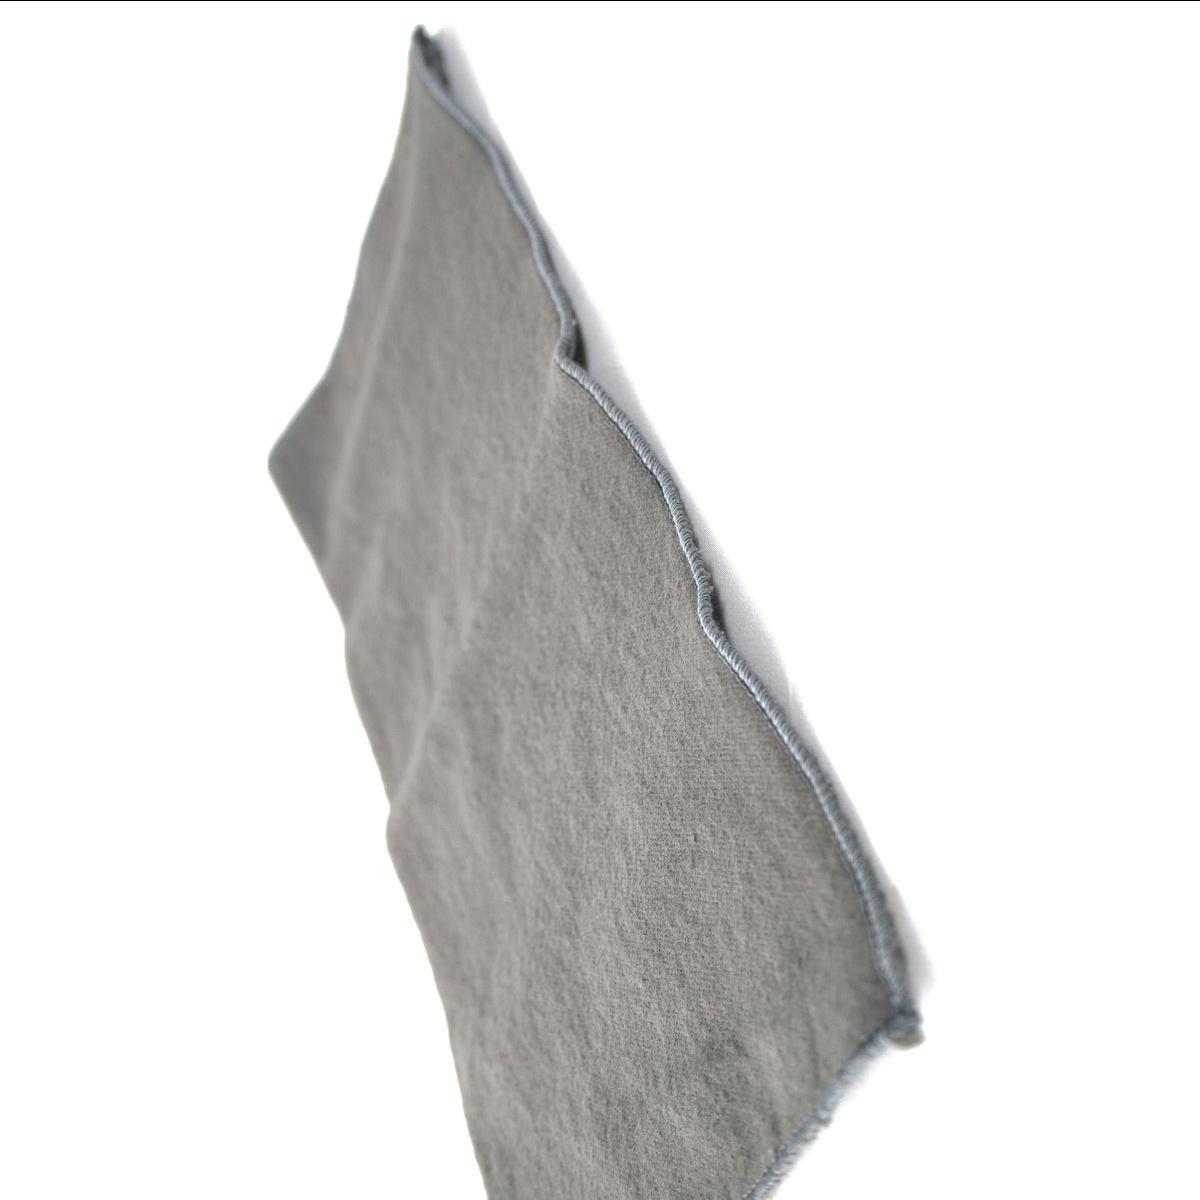towel: (190, 27, 1005, 1200)
